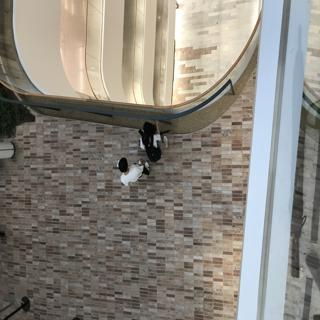person: (101, 157, 152, 203), (133, 119, 165, 163)
